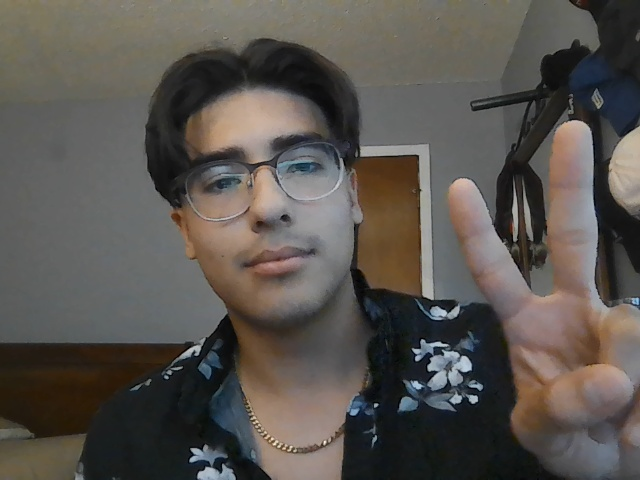PeaceSign: (447, 118, 640, 480)
